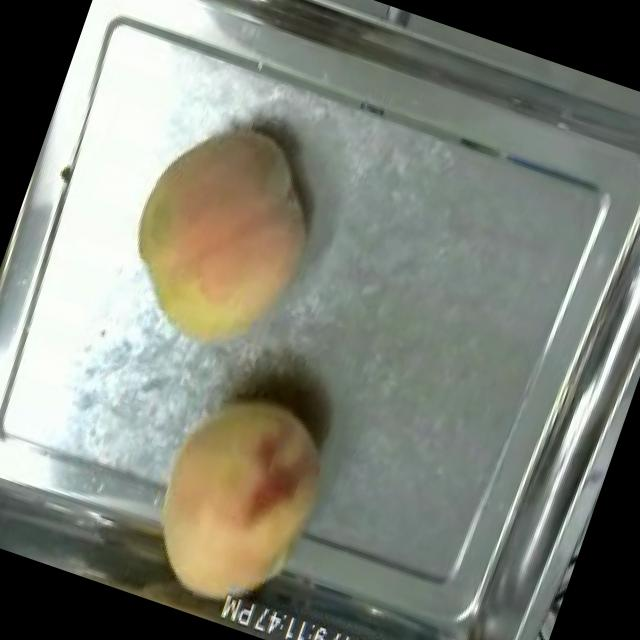Fruit: (95, 93, 350, 377), (120, 362, 360, 634)
